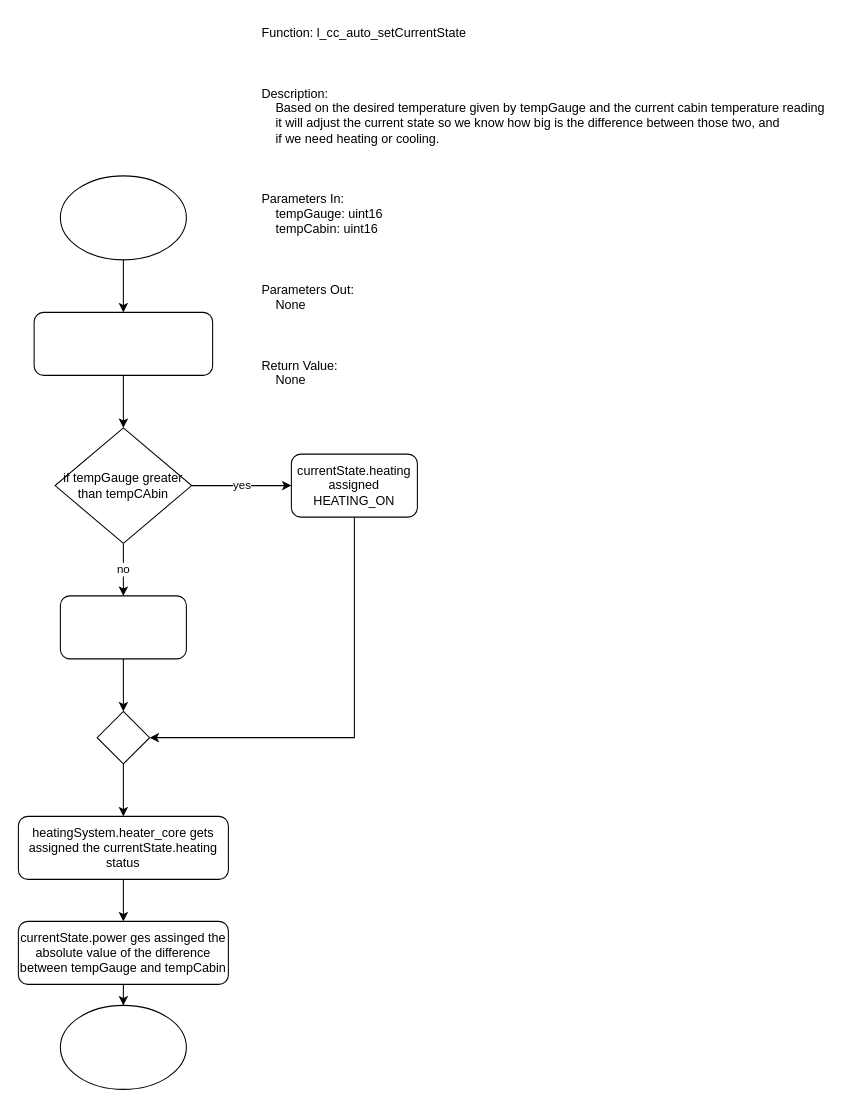
Some shapes in this 845 by 1108 pixel diagram are drawn without their labels. Each missing label, with the box of its shape:
call l_cc_auto_setCurrentState: (33, 311, 213, 375)
currentState.heating assigned HEATING_OFF: (59, 595, 186, 659)
